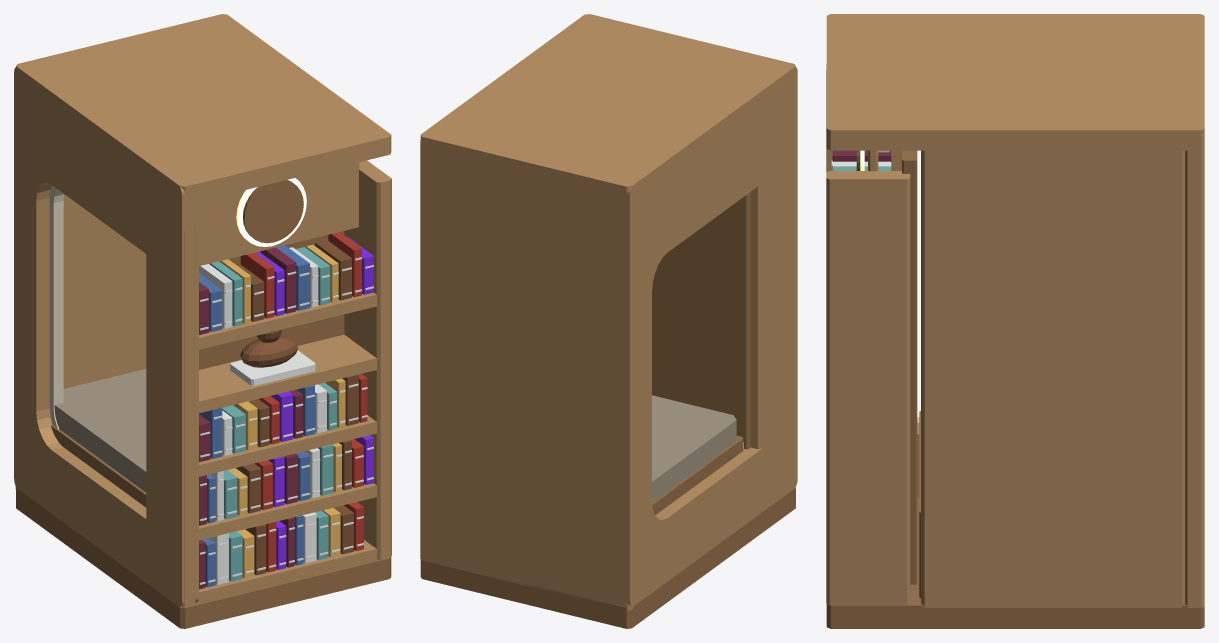
File: gh_bookshelf_pod_v01.glb
The picture shows the model from 3 angles, left to right: view 1: azimuth 30°, elevation 25°; view 2: azimuth 150°, elevation 25°; view 3: azimuth 270°, elevation 25°; orthographic projection. The views are drawn at different scales.
Parts seen in each view (by area): view 1: Bookshelf shell and genuine side niche palette, Bust halo and fittings palette, Bookshelf shell and genuine side niche fabric, Bust halo and fittings warm_light; view 2: Bookshelf shell and genuine side niche palette, Bookshelf shell and genuine side niche fabric; view 3: Bookshelf shell and genuine side niche palette.
Part boxes in pixels (x1,y1,x2,y2): Bookshelf shell and genuine side niche palette: (14, 14, 391, 628); Bust halo and fittings palette: (199, 162, 359, 385); Bookshelf shell and genuine side niche fabric: (49, 185, 146, 492); Bust halo and fittings warm_light: (236, 178, 306, 246); Bookshelf shell and genuine side niche palette: (420, 14, 797, 628); Bookshelf shell and genuine side niche fabric: (652, 395, 743, 502); Bookshelf shell and genuine side niche palette: (826, 14, 1204, 628).
Size of the model in its own units: 1.6 by 3.2 by 2.2.
3 materials, 3 textured.
